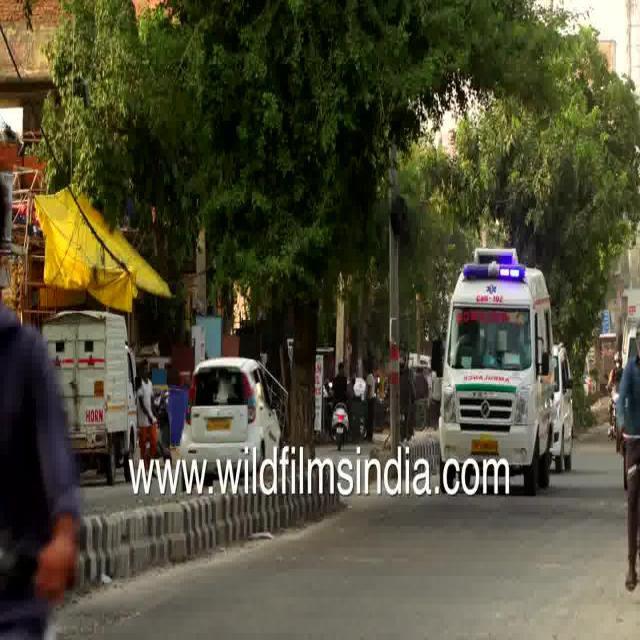ambulance: (424, 237, 553, 493)
